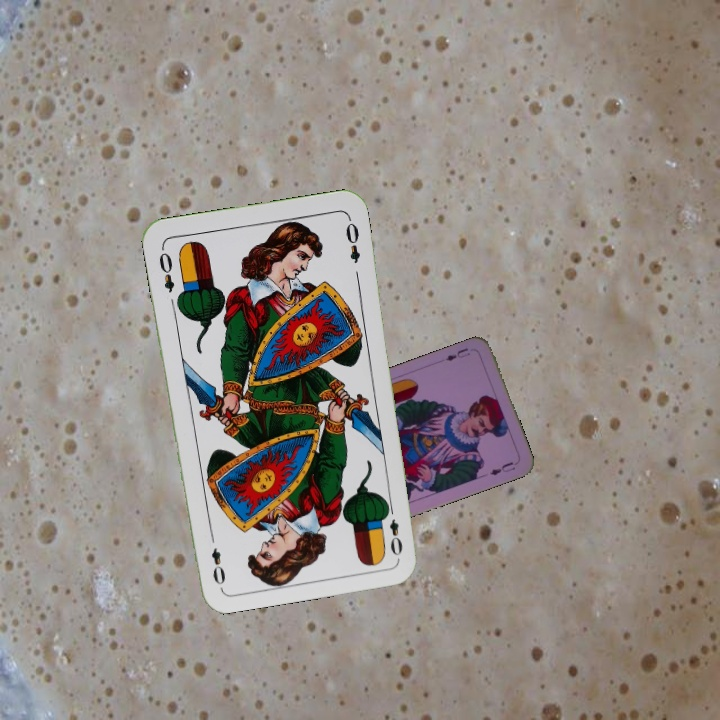EO: (381, 500, 405, 559), (155, 243, 177, 295)
EU: (442, 343, 473, 364)
